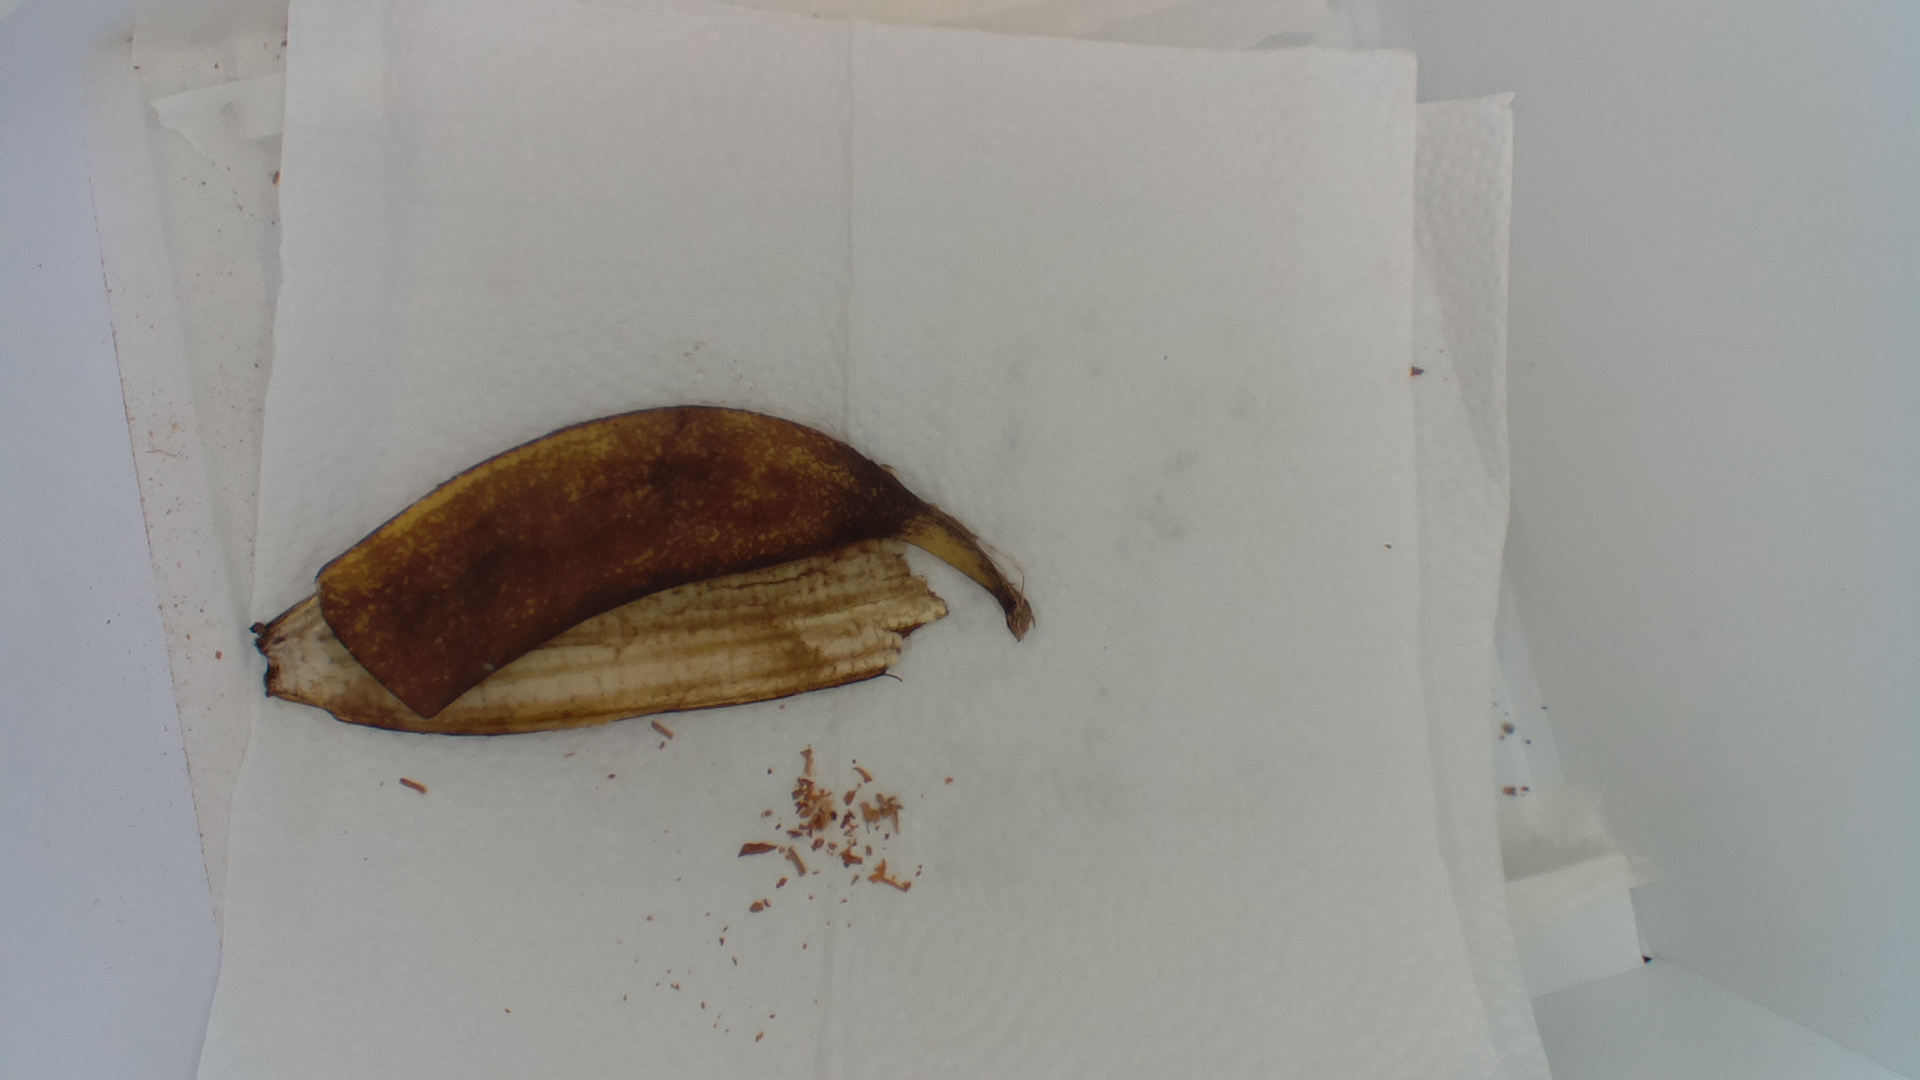fruit: (241, 401, 1040, 738)
